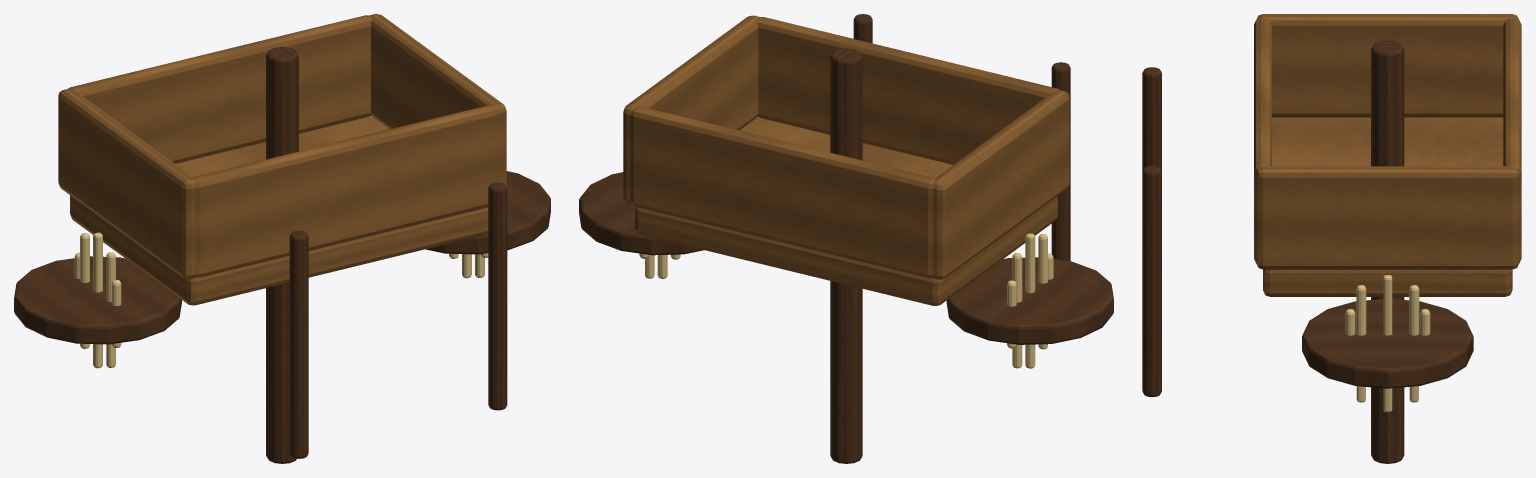
The model's file is cart.glb.
The picture shows the model from 3 angles, left to right: view 1: azimuth 30°, elevation 25°; view 2: azimuth 150°, elevation 25°; view 3: azimuth 270°, elevation 25°; orthographic projection.
Visible parts, largest first — view 1: end, end.001, side, cart_bed, wheel, side.001, axle, drawbar.001, drawbar, wheel.001, wheel_spoke.002; view 2: end.001, end, side, cart_bed, wheel, axle, side.001, wheel.001, drawbar, wheel_spoke.002; view 3: side.001, side, cart_bed, wheel.001, axle, drawbar.001, end.001, end, drawbar, wheel_spoke.010, wheel_spoke.011, wheel_spoke.009.
Part boxes in pixels (x1,y1,x2,y2): end: (193,105,499,277); end.001: (68,15,371,163); side: (58,89,195,278); cart_bed: (70,116,488,305); wheel: (14,256,181,344); side.001: (370,14,506,185); axle: (266,47,298,463); drawbar.001: (488,182,507,410); drawbar: (289,230,308,458); wheel.001: (426,171,550,254); wheel_spoke.002: (93,232,102,292); end.001: (630,106,935,278); end: (757,17,1059,164); side: (933,90,1069,279); cart_bed: (635,117,1057,305); wheel: (946,257,1113,344); axle: (830,48,862,463); side.001: (623,15,759,204); wheel.001: (579,172,704,255); drawbar: (1051,62,1070,261); wheel_spoke.002: (1025,233,1035,293); side.001: (1256,166,1519,269); side: (1257,14,1518,117); cart_bed: (1263,117,1512,296); wheel.001: (1302,299,1473,388); axle: (1371,40,1404,463); drawbar.001: (1142,165,1161,397); end.001: (1503,18,1521,262); end: (1254,18,1271,262); drawbar: (1142,67,1161,170); wheel_spoke.010: (1383,275,1392,335); wheel_spoke.011: (1356,285,1366,335); wheel_spoke.009: (1409,285,1419,335).
Bounding box in the file's own units: 2.18 × 1.64 × 1.37.
Materials: 3 (2 with a texture image).
